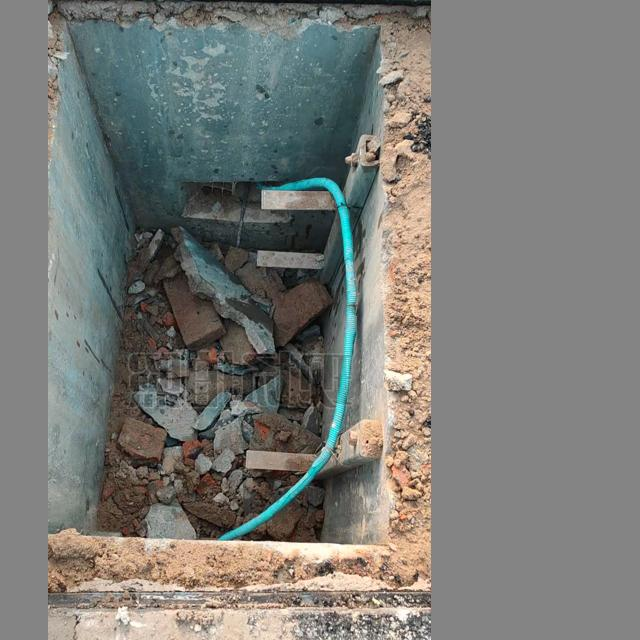lose: (49, 0, 426, 634)
